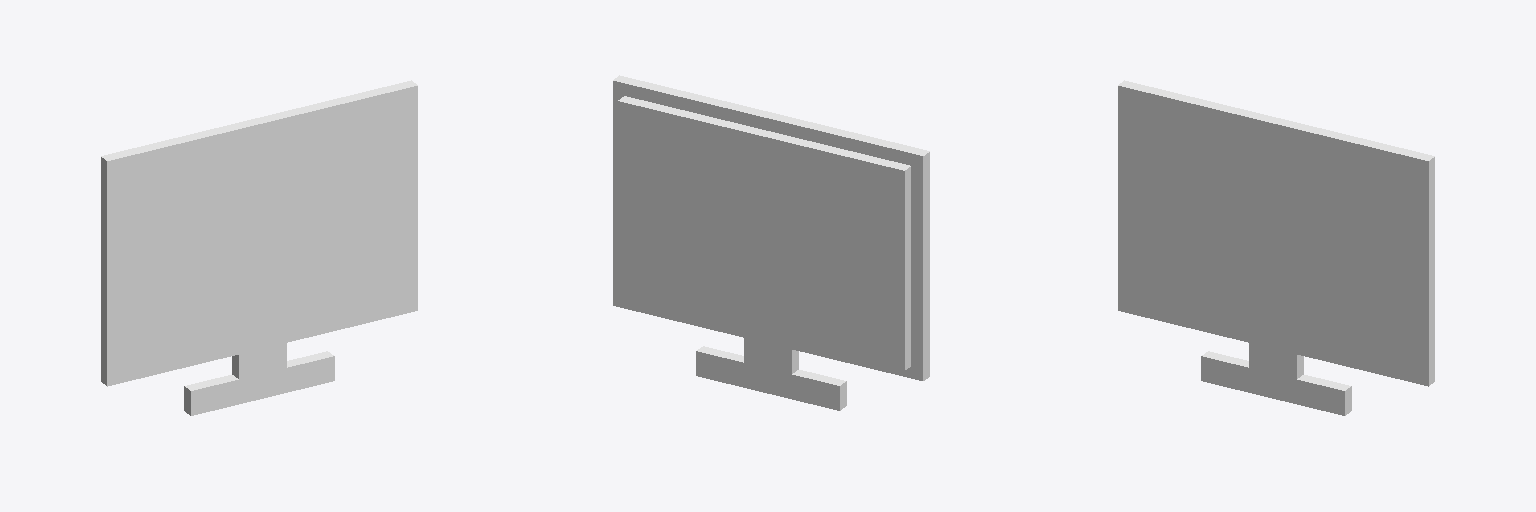
Rendered from v_monitor.obj.
3 renders of one model, left to right at view 1: azimuth 30°, elevation 25°; view 2: azimuth 150°, elevation 25°; view 3: azimuth 330°, elevation 25°, orthographic.
Parts seen in each view (by area): view 1: object 1; view 2: object 1; view 3: object 1.
Boxes of the visible parts, <box> form: object 1: <box>101,80,417,415</box>; object 1: <box>613,75,929,410</box>; object 1: <box>1118,80,1434,415</box>.
Size of the model in its own units: 2.6 by 2.2 by 0.2.